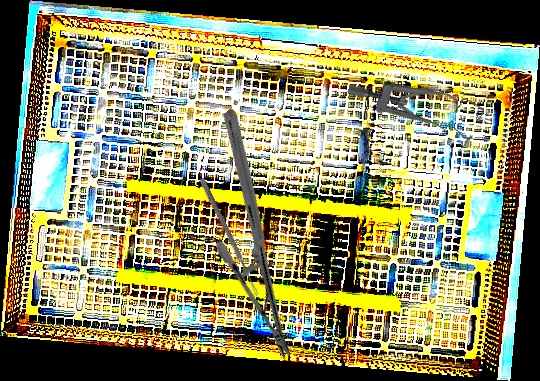Needle Holder: (134, 107, 381, 361)
Speculum: (345, 44, 488, 160)
Surgical Spoon: (198, 177, 261, 297)
